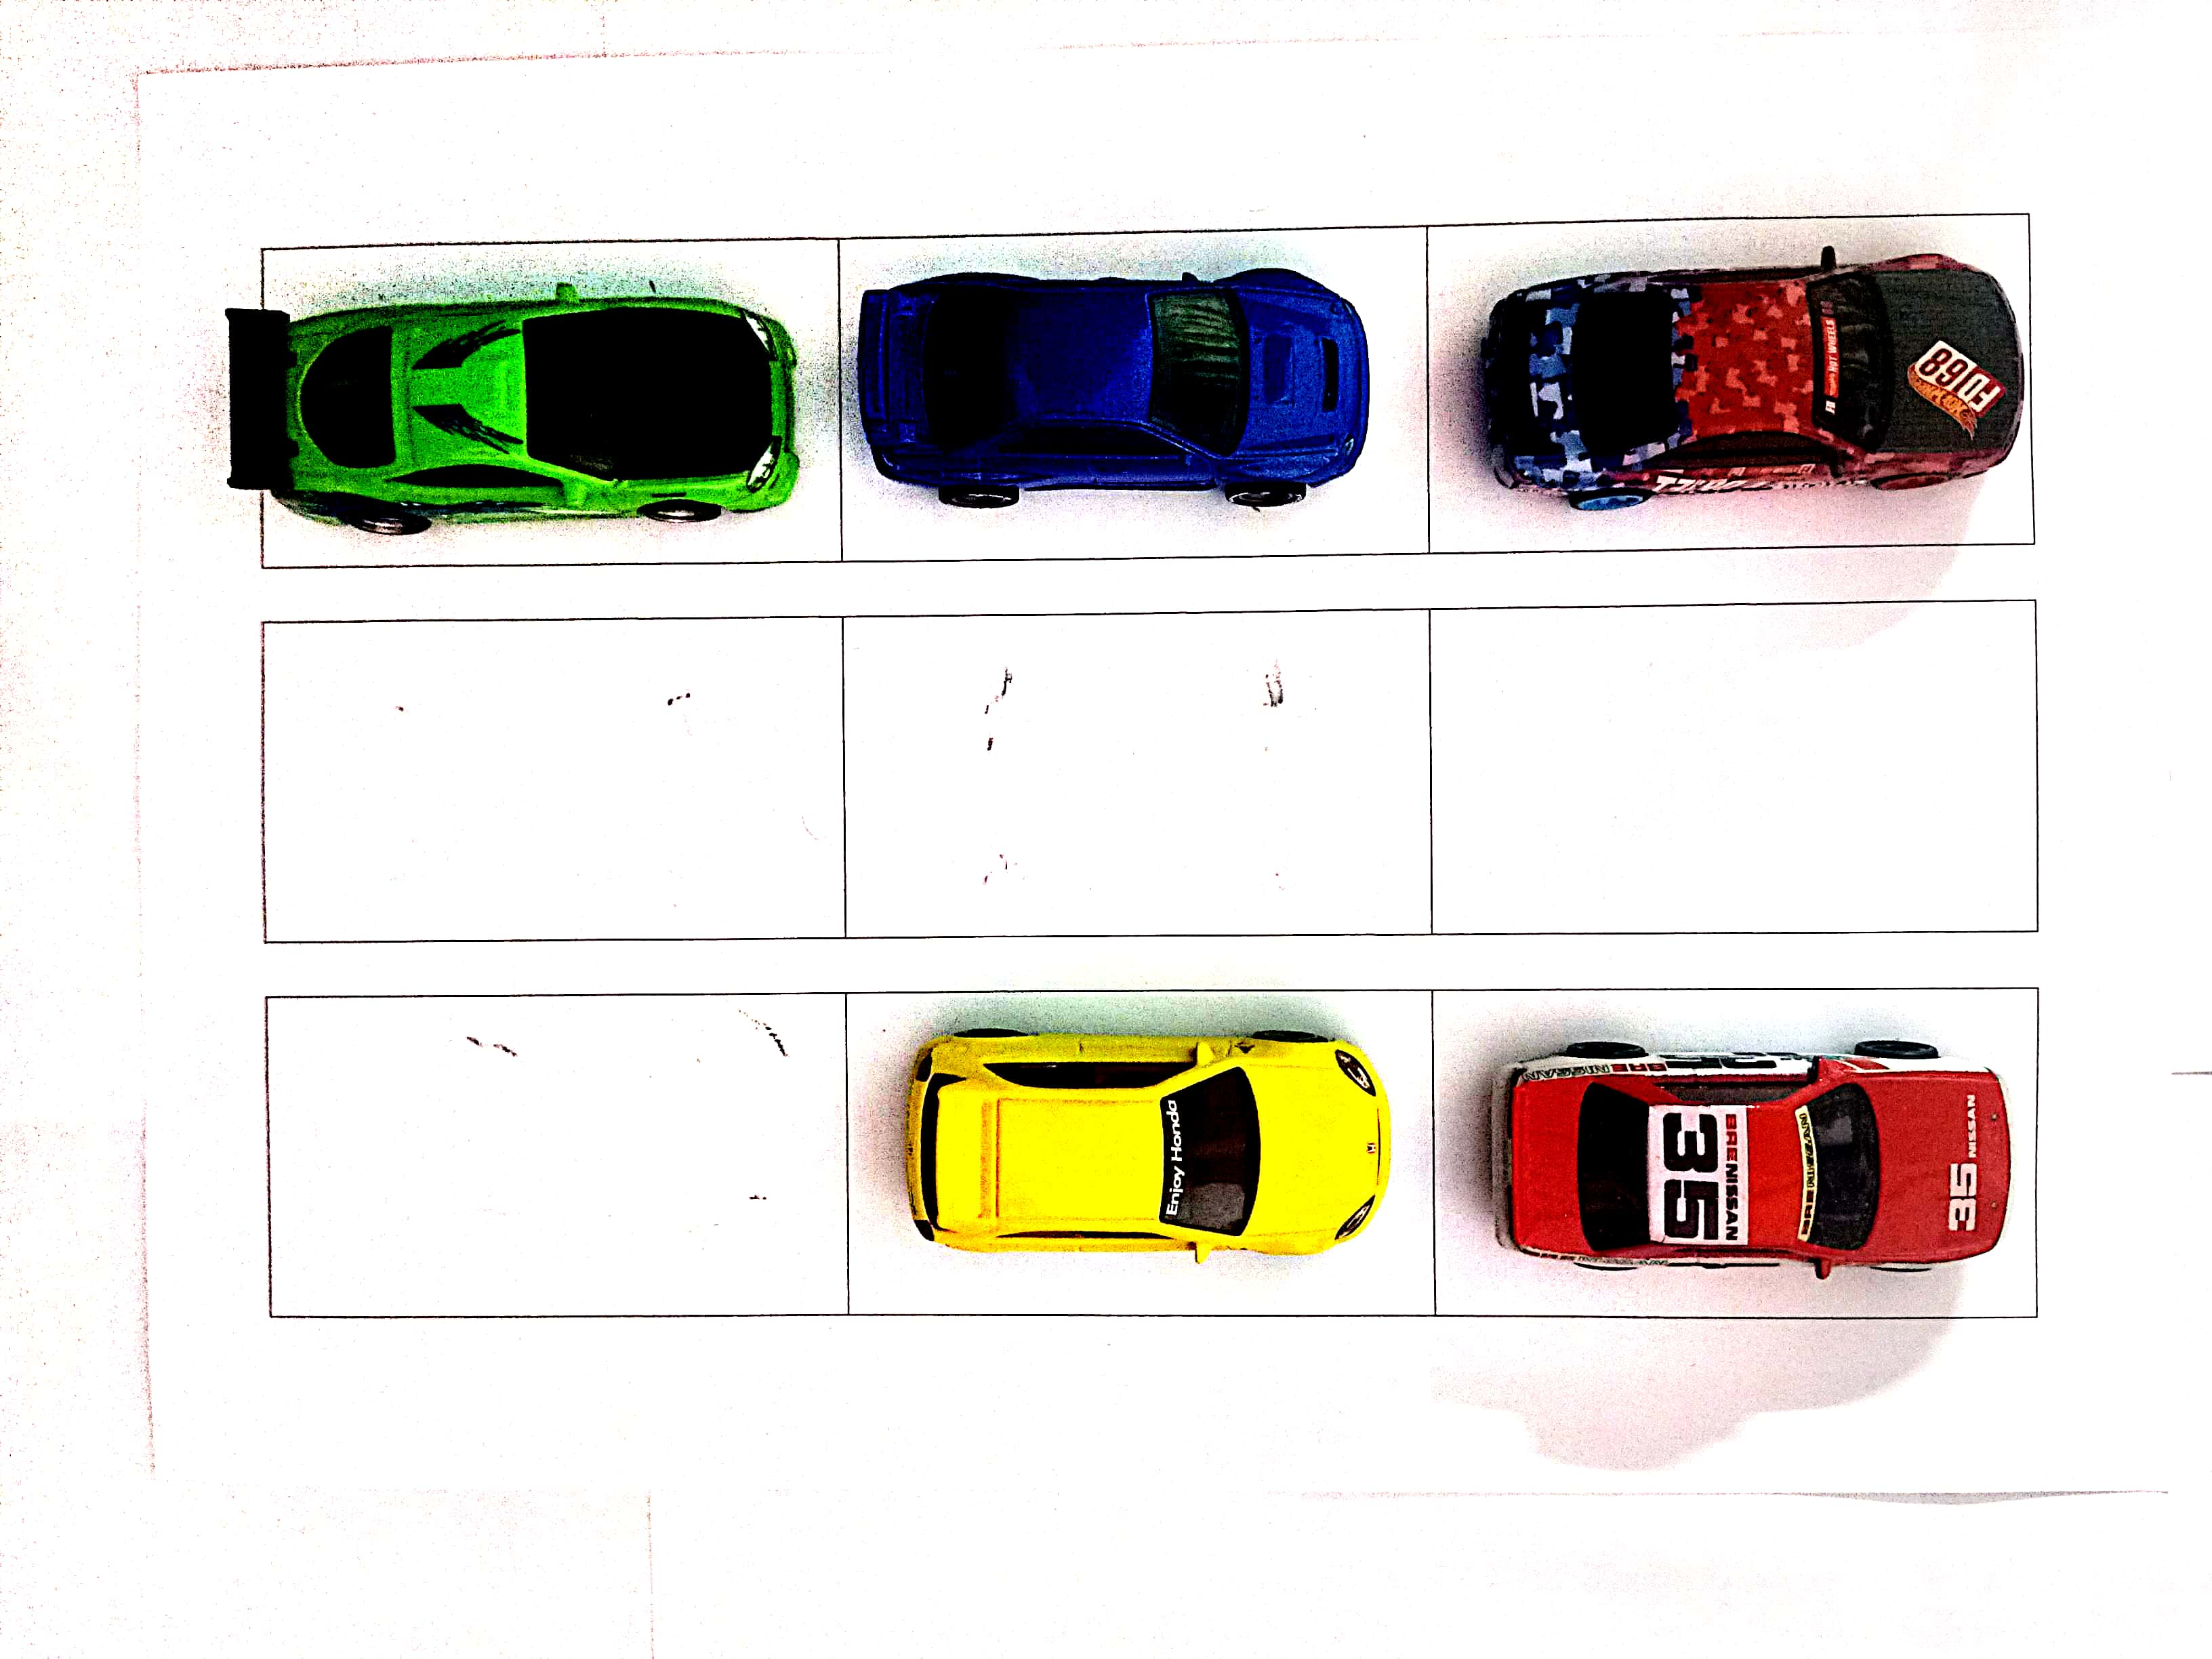Busy: (1428, 216, 2033, 549), (1433, 992, 2029, 1314), (843, 228, 1425, 554), (848, 992, 1433, 1314), (261, 240, 836, 566)
Free: (1433, 598, 2038, 927), (265, 619, 843, 945), (843, 619, 1432, 932), (270, 997, 836, 1316)
